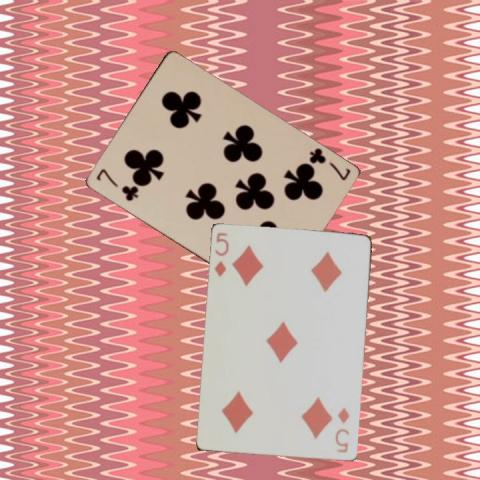5d: (211, 230, 231, 279), (333, 405, 351, 454)
7c: (305, 145, 352, 182), (93, 166, 139, 203)
